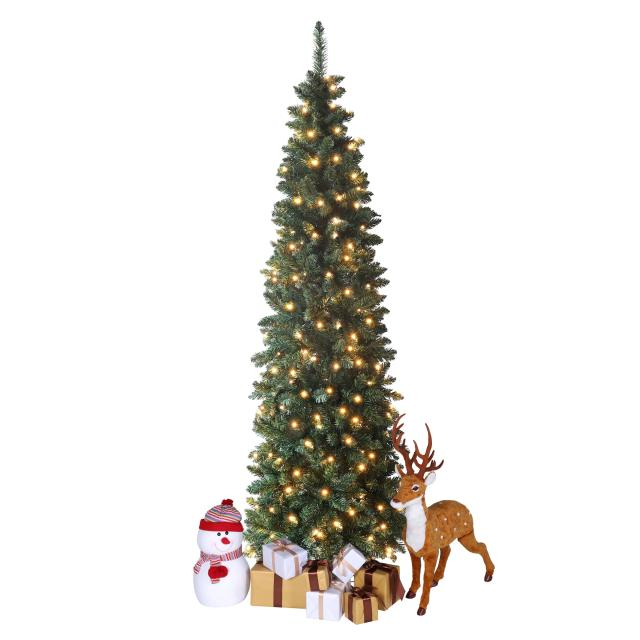Christmas-tree: (212, 1, 393, 488)
